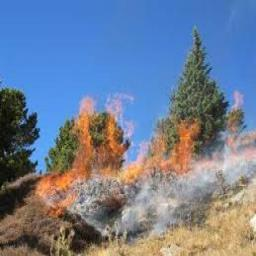Low smoke: (31, 79, 256, 243)
Small fire: (20, 70, 247, 215)
